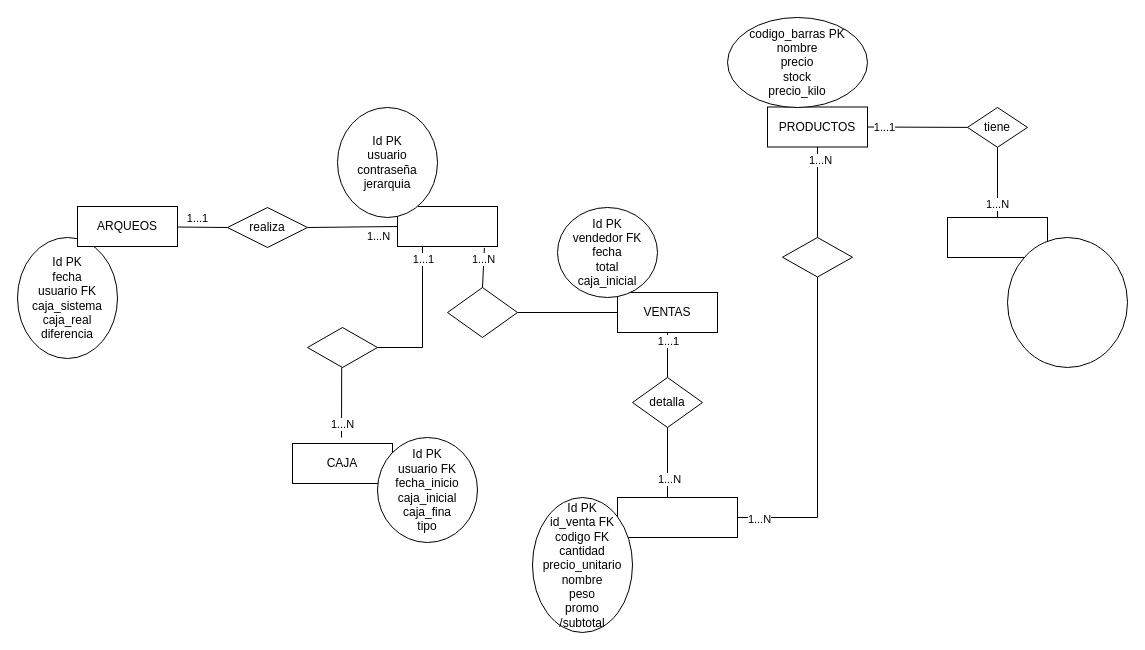
Image size: 1145x650. Some labels were removed from this diagram. Each missing label, with the box of its shape:
abre_cierra: (306, 326, 378, 368)
contiene: (782, 236, 852, 277)
Id PK codigo_producto FK tipo cantidad_min precio_promo descuento activa: (1006, 236, 1128, 368)
PROMOCIONES: (946, 216, 1048, 258)
registra: (446, 286, 518, 338)
USUARIOS: (396, 206, 498, 246)
VENTAS_DETALLE: (616, 496, 738, 538)
